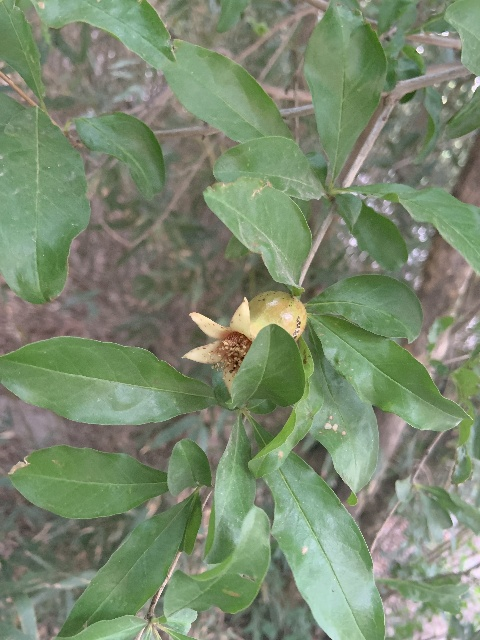early-fruit: (182, 290, 306, 396)
